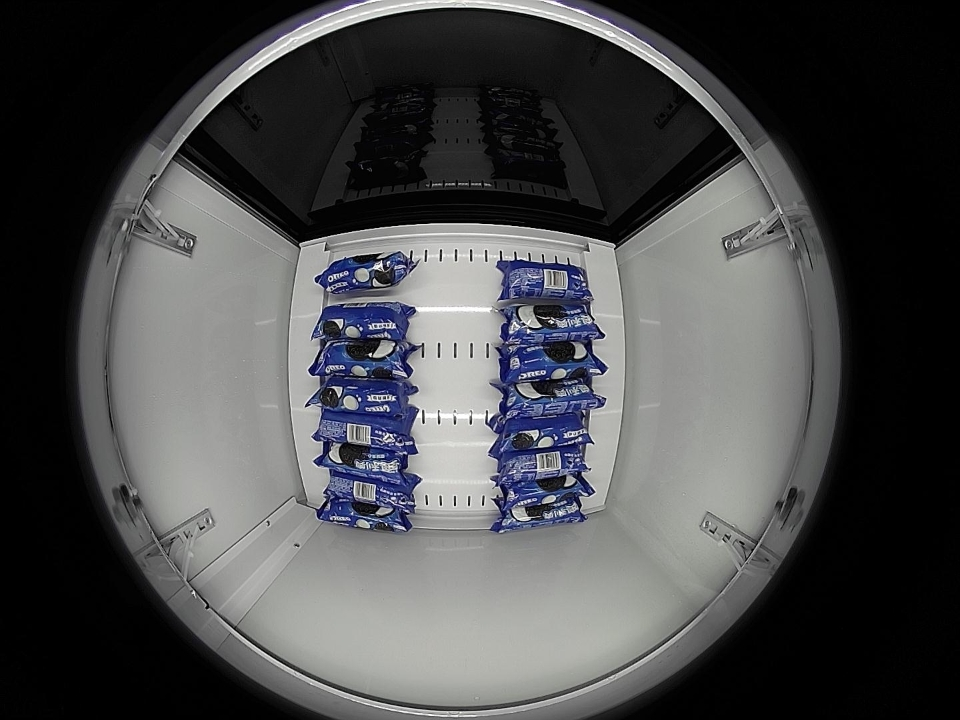aoliao: (498, 259, 593, 303), (318, 253, 414, 296), (502, 343, 606, 382), (315, 412, 411, 454), (503, 304, 603, 342), (314, 301, 409, 341), (313, 340, 408, 379), (315, 378, 407, 417), (499, 444, 592, 482), (496, 414, 591, 450), (500, 381, 603, 414), (318, 444, 407, 480), (499, 478, 589, 508), (492, 505, 588, 532), (322, 503, 411, 532), (323, 478, 415, 504)
